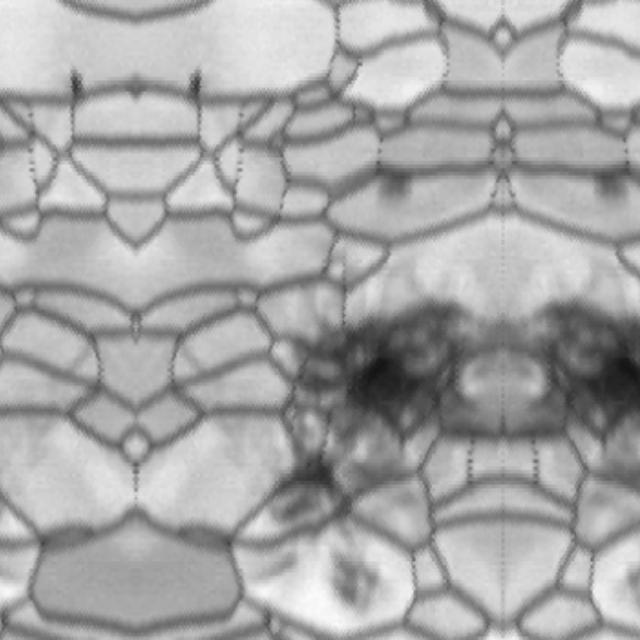good_void: (264, 285, 504, 537), (504, 285, 640, 498), (324, 533, 394, 606), (364, 152, 417, 214), (591, 152, 640, 214), (249, 549, 304, 585), (614, 545, 640, 605), (183, 55, 211, 110), (62, 55, 90, 110), (0, 551, 24, 585)
